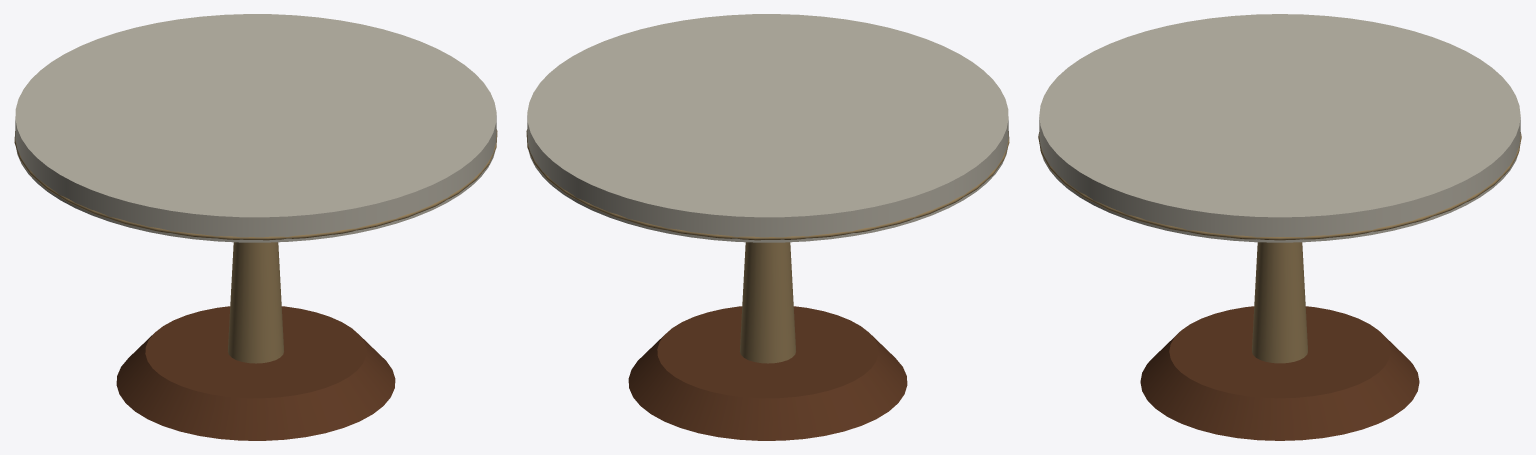
Rendered from nesting-table-tall.glb.
The picture shows the model from 3 angles, left to right: view 1: azimuth 30°, elevation 25°; view 2: azimuth 150°, elevation 25°; view 3: azimuth 270°, elevation 25°; orthographic projection.
Visible parts, largest first — view 1: part::nesting-table-tall/round-honed-top-001, part::nesting-table-tall/splayed-pedestal-foot-001, part::nesting-table-tall/tapered-pedestal-001, part::nesting-table-tall/brass-tabletop-reveal-001; view 2: part::nesting-table-tall/round-honed-top-001, part::nesting-table-tall/splayed-pedestal-foot-001, part::nesting-table-tall/tapered-pedestal-001, part::nesting-table-tall/brass-tabletop-reveal-001; view 3: part::nesting-table-tall/round-honed-top-001, part::nesting-table-tall/splayed-pedestal-foot-001, part::nesting-table-tall/tapered-pedestal-001, part::nesting-table-tall/brass-tabletop-reveal-001.
Boxes of the visible parts, <box> form: part::nesting-table-tall/round-honed-top-001: <box>15,14,496,242</box>; part::nesting-table-tall/splayed-pedestal-foot-001: <box>116,306,395,440</box>; part::nesting-table-tall/tapered-pedestal-001: <box>228,242,283,363</box>; part::nesting-table-tall/brass-tabletop-reveal-001: <box>14,129,497,240</box>; part::nesting-table-tall/round-honed-top-001: <box>527,14,1008,242</box>; part::nesting-table-tall/splayed-pedestal-foot-001: <box>628,306,907,440</box>; part::nesting-table-tall/tapered-pedestal-001: <box>740,242,795,363</box>; part::nesting-table-tall/brass-tabletop-reveal-001: <box>526,129,1009,240</box>; part::nesting-table-tall/round-honed-top-001: <box>1039,14,1520,242</box>; part::nesting-table-tall/splayed-pedestal-foot-001: <box>1140,306,1419,440</box>; part::nesting-table-tall/tapered-pedestal-001: <box>1252,242,1307,363</box>; part::nesting-table-tall/brass-tabletop-reveal-001: <box>1038,132,1521,240</box>.
Size of the model in its own units: 0.864 by 0.525 by 0.864.
